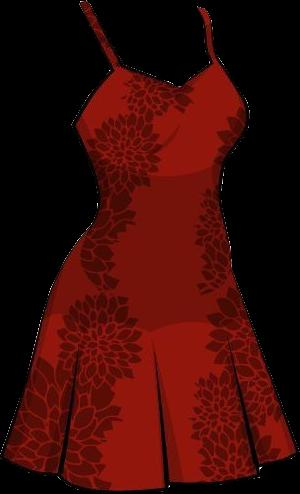Bodice: (73, 0, 248, 229)
Hemline: (0, 449, 299, 493)
Neckline: (85, 0, 214, 91)
Skirt: (1, 229, 296, 491)
